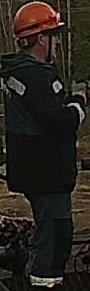gloves: (72, 78, 90, 116)
helmet: (13, 1, 65, 38)
vest: (0, 53, 79, 194)
